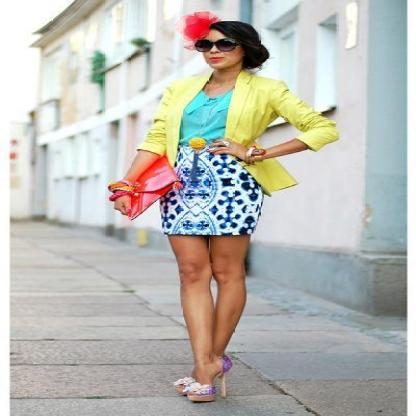bag: (124, 150, 187, 216)
jacket: (146, 62, 338, 203)
shirt: (177, 92, 232, 158)
shoe: (172, 352, 247, 404)
skirt: (151, 146, 272, 242)
sunglass: (195, 37, 238, 51)
